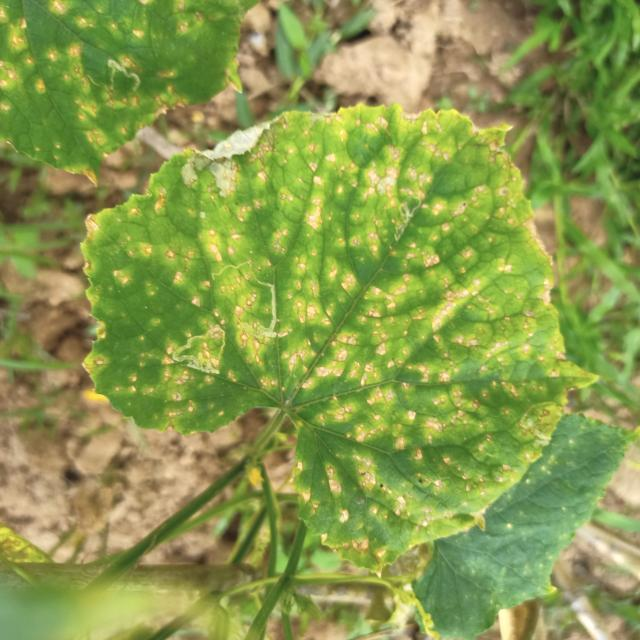disease_cucumber: (93, 105, 562, 559)
